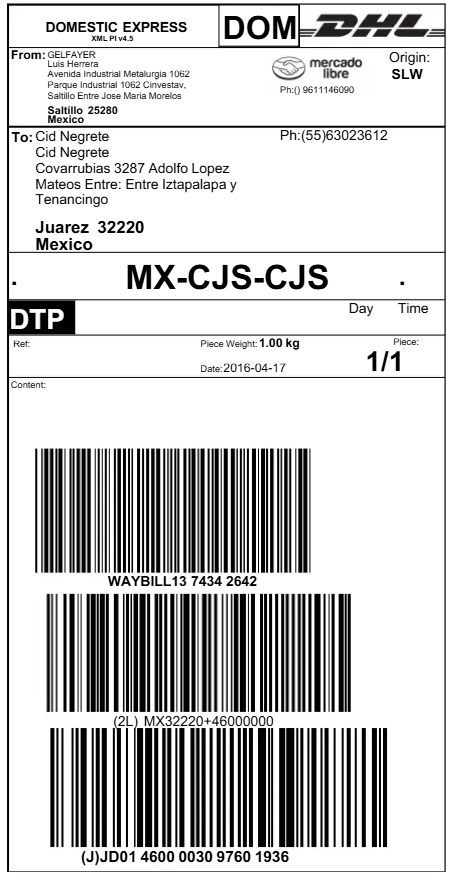waybill_text: (105, 575, 259, 588)
